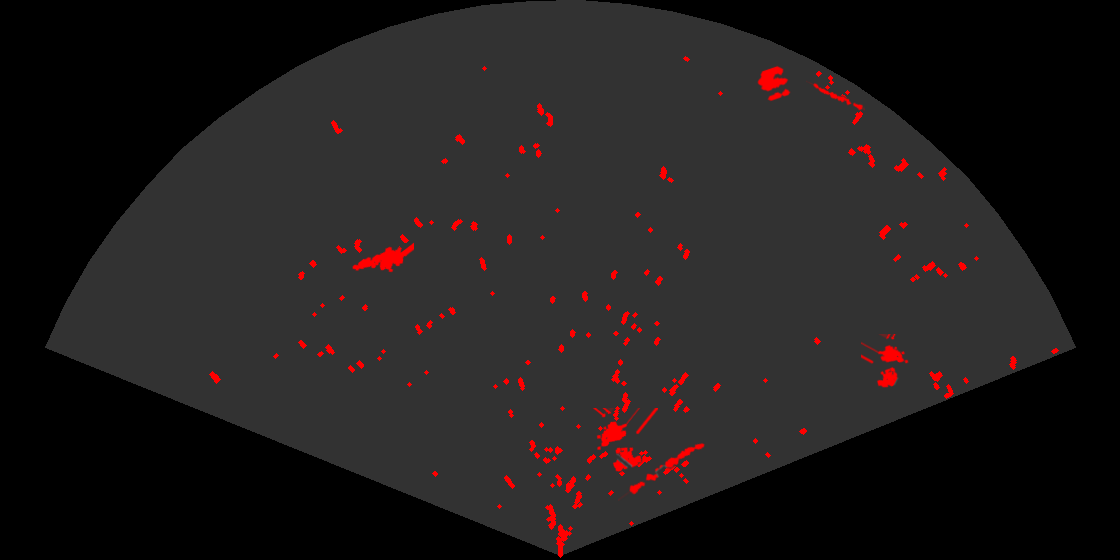ball: (756, 64, 792, 103)
cage: (591, 408, 658, 473), (861, 334, 910, 389)
chain: (618, 441, 706, 501), (806, 79, 865, 112)
frogman: (351, 241, 414, 274)
